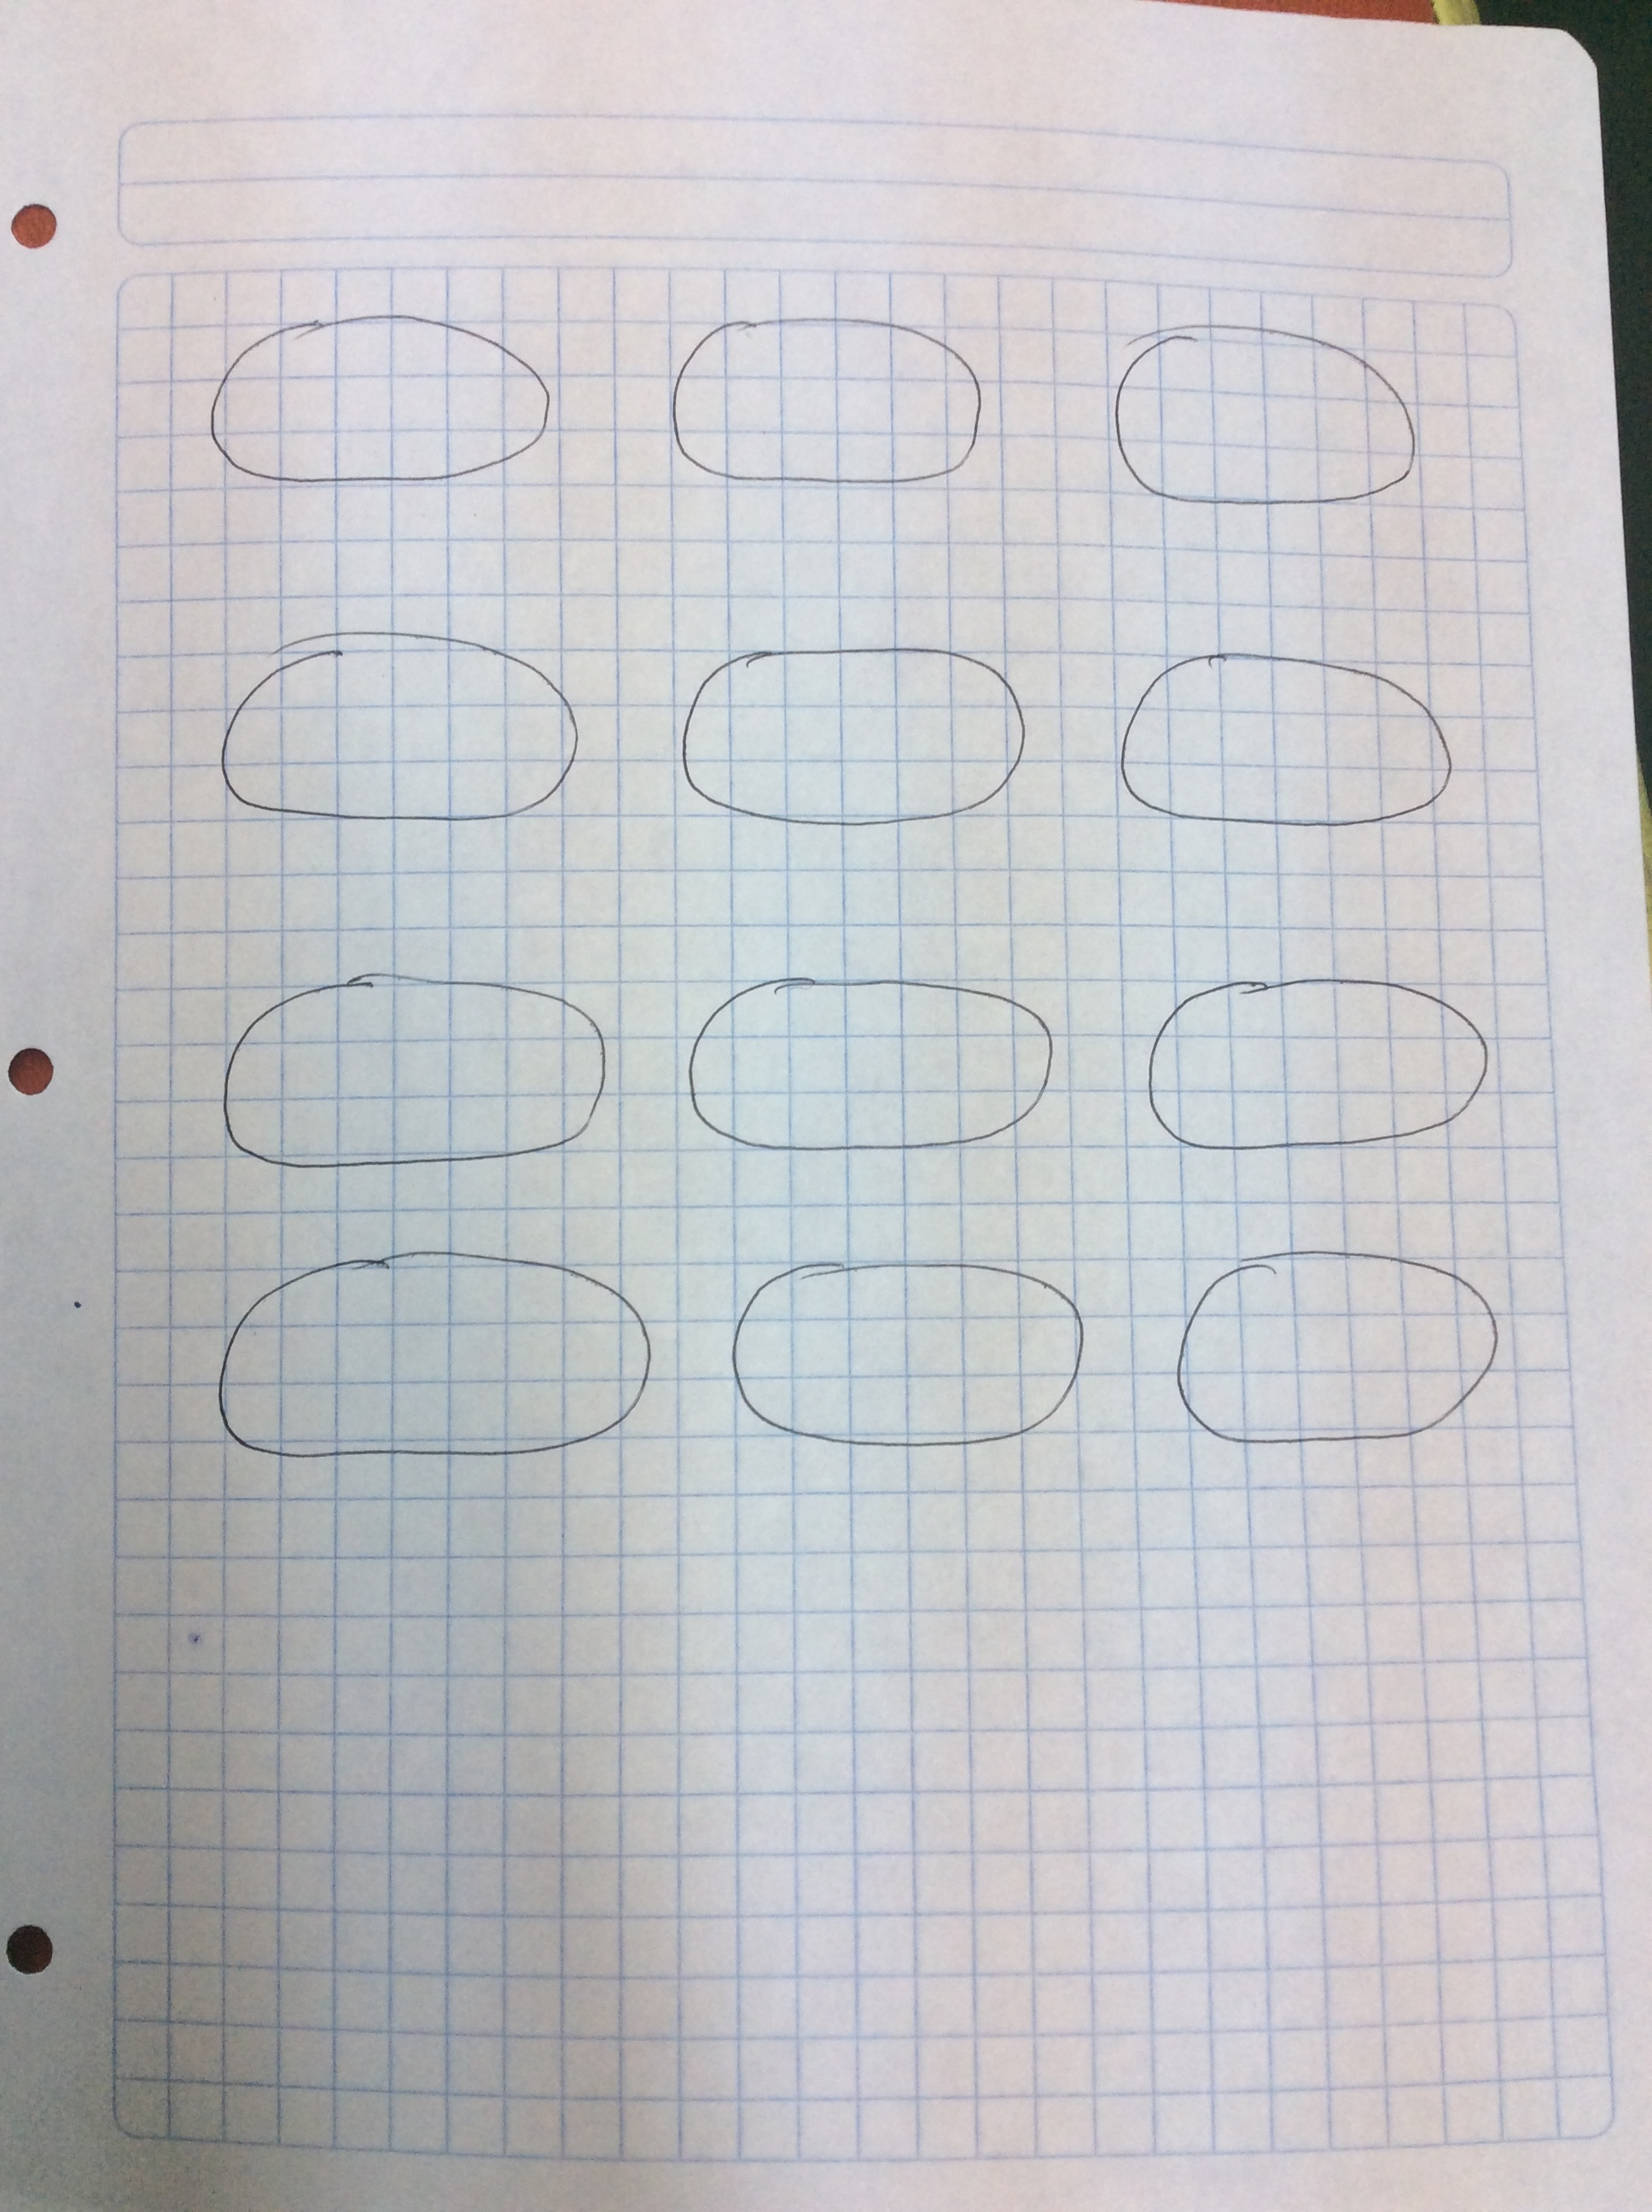start_end: (179, 1242, 684, 1478), (175, 593, 602, 840), (175, 959, 637, 1181), (640, 600, 1057, 843), (1135, 1218, 1527, 1475), (1085, 618, 1480, 854), (1067, 300, 1459, 529), (668, 949, 1085, 1164), (711, 1239, 1100, 1464), (1118, 959, 1524, 1171), (640, 297, 1005, 512), (172, 304, 574, 498)
